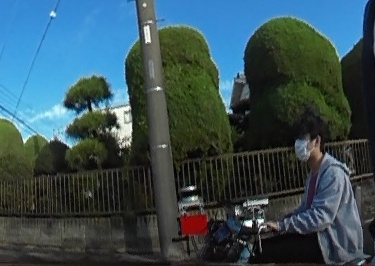person: (272, 112, 362, 266)
